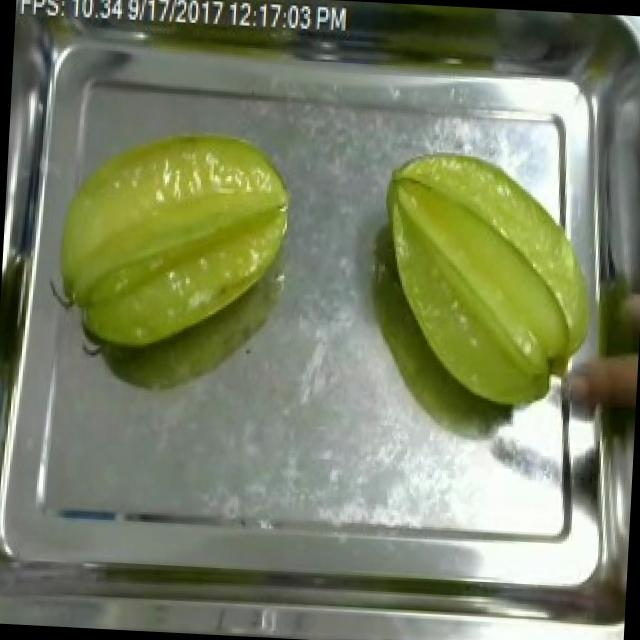fruit: (363, 142, 613, 424), (40, 112, 306, 371)
